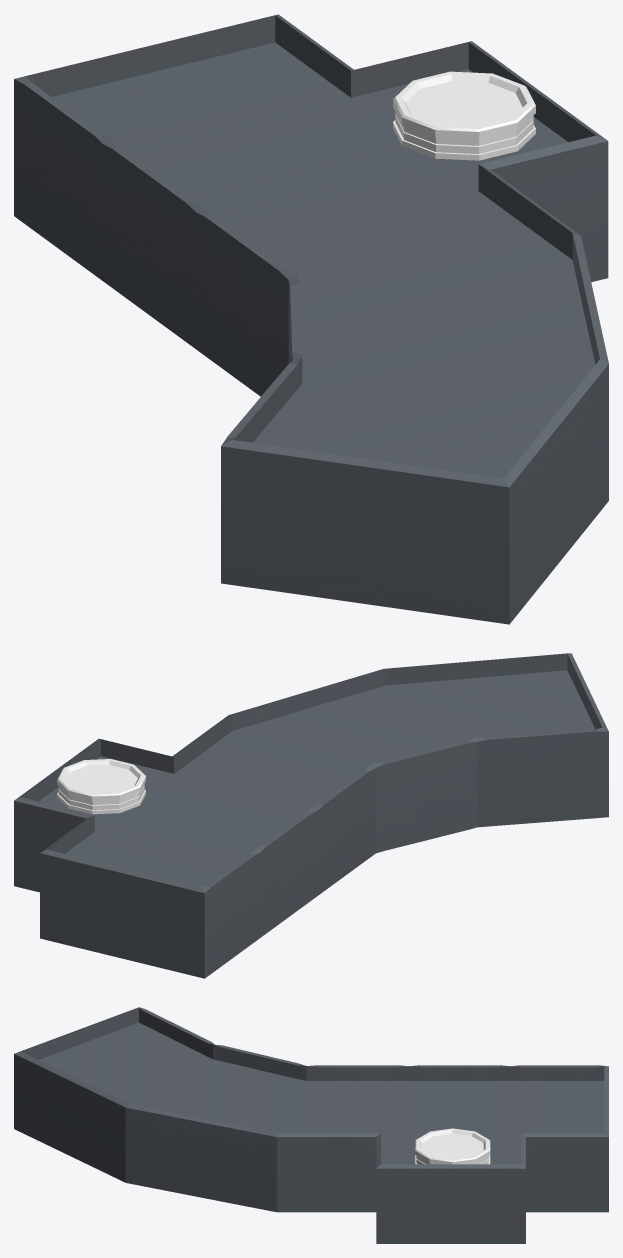
The model's file is principioCircular.fbx.
The picture shows the model from 3 angles, top to bottom: view 1: azimuth 30°, elevation 25°; view 2: azimuth 150°, elevation 25°; view 3: azimuth 270°, elevation 25°; orthographic projection. The views are drawn at different scales.
Visible parts, largest first — view 1: principioCircular2; view 2: principioCircular2; view 3: principioCircular2.
Part boxes in pixels (bbox=[...]): principioCircular2: bbox=[14, 14, 608, 624]; principioCircular2: bbox=[14, 653, 608, 978]; principioCircular2: bbox=[14, 1007, 608, 1243].
Size of the model in its own units: 7624 by 1750 by 11875.
